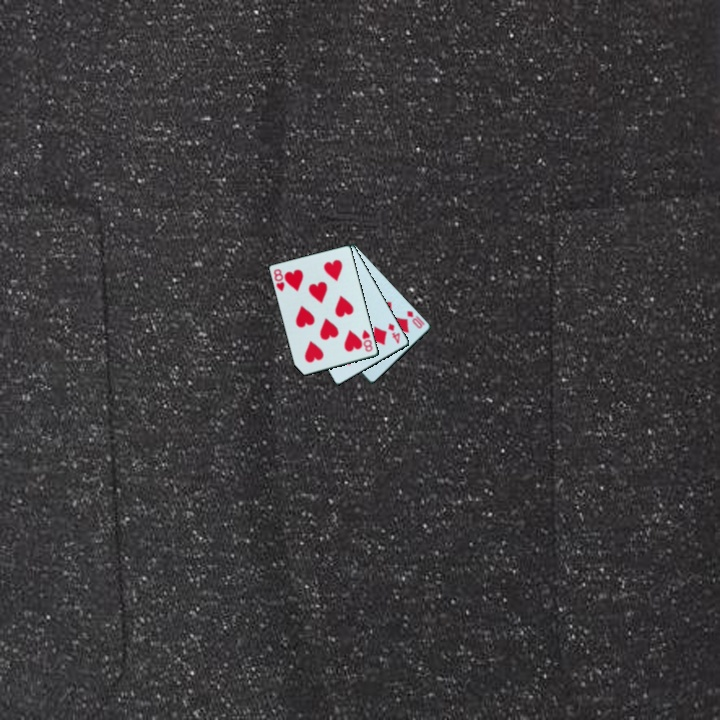10d: (403, 307, 428, 331)
4d: (385, 320, 403, 346)
8h: (270, 266, 288, 295), (359, 326, 376, 355)
